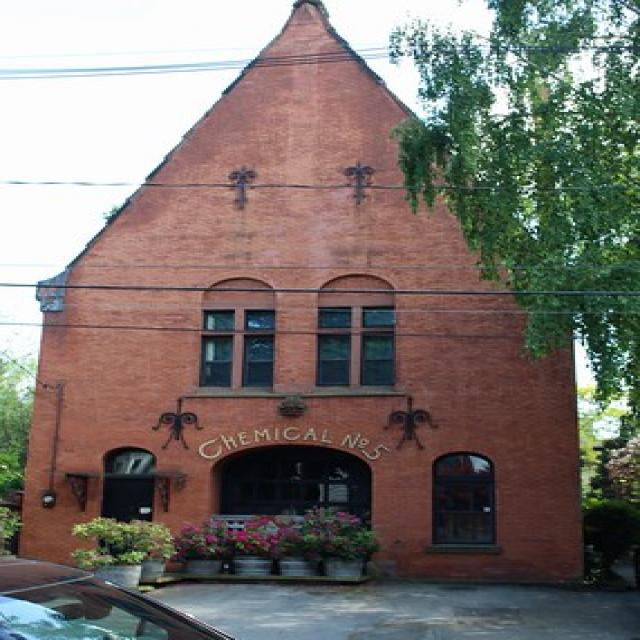Normal_building: (11, 4, 593, 594)
